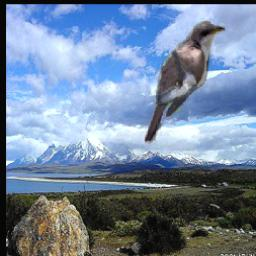Cuckoo: (145, 19, 226, 145)
